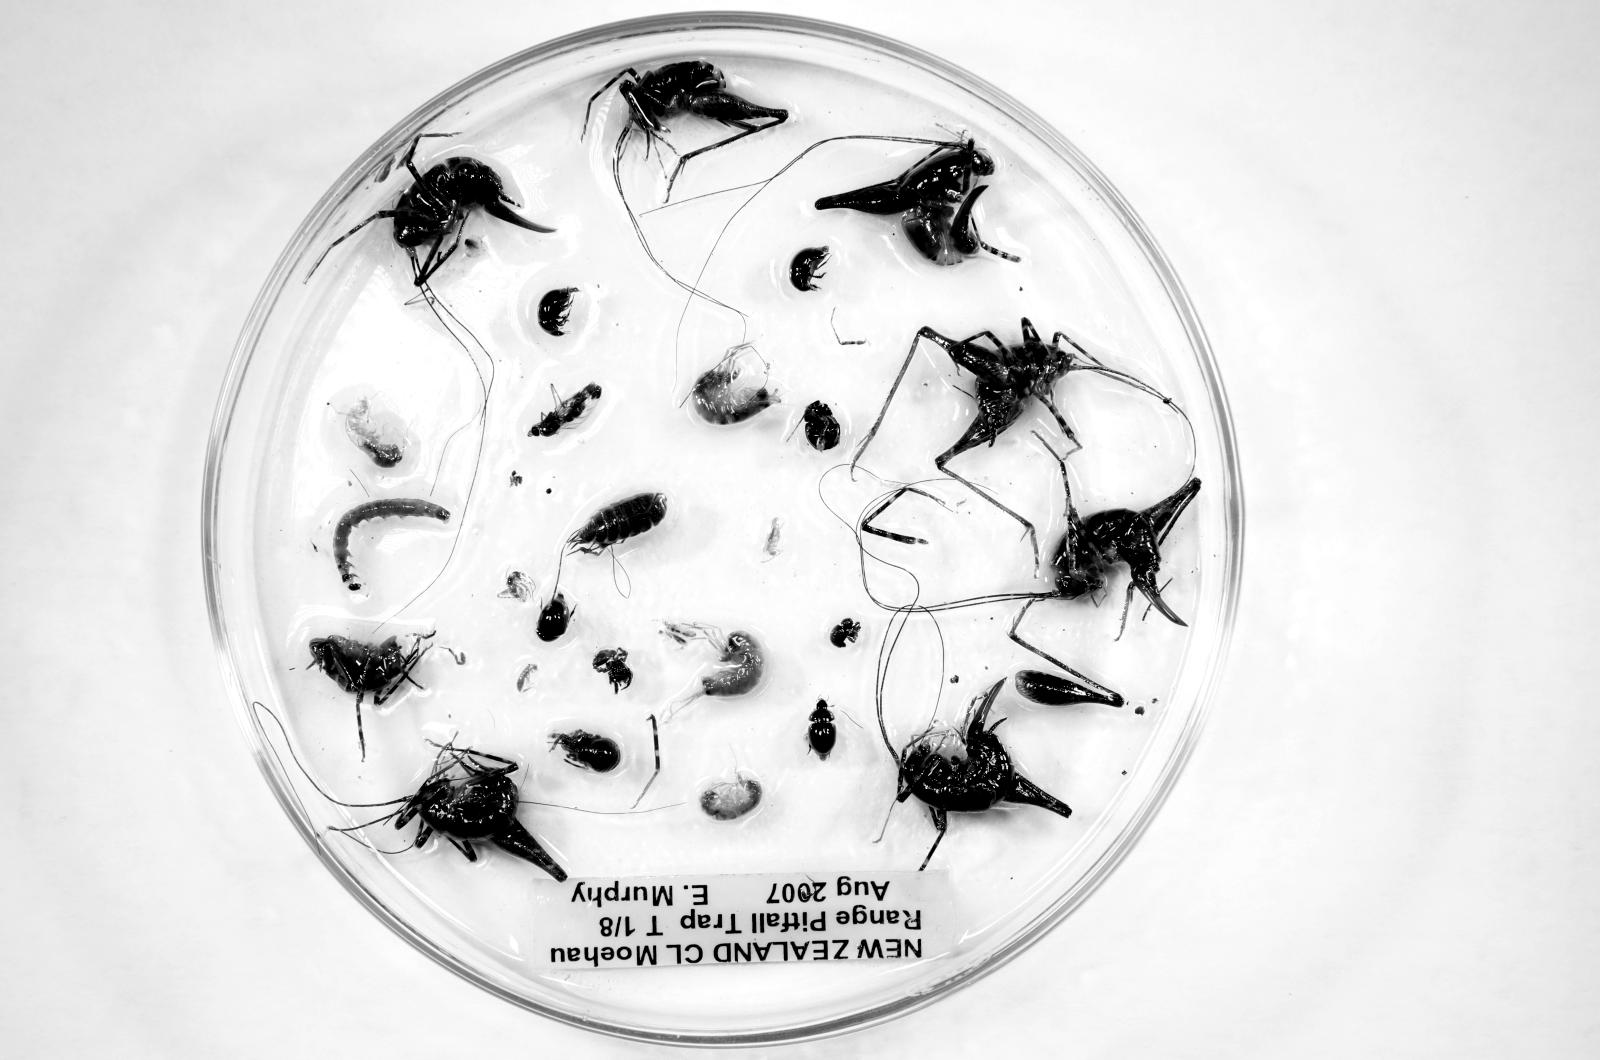amphipoda: (692, 342, 780, 425), (691, 625, 765, 697), (345, 397, 403, 467), (699, 773, 763, 821)
coleoptera: (537, 287, 579, 336), (536, 590, 575, 642), (802, 401, 841, 451), (807, 698, 837, 760), (790, 246, 830, 291), (829, 618, 862, 648)
coleoptera_larva: (333, 498, 451, 590)
collembola: (763, 517, 782, 557), (516, 664, 538, 692)
diptera: (527, 383, 601, 437)
isopoda: (568, 493, 667, 555)
opiliones: (549, 729, 621, 773)
orthoptera: (851, 318, 1186, 504), (351, 138, 556, 286), (583, 60, 789, 206), (896, 679, 1071, 841), (390, 745, 566, 881), (815, 141, 995, 265), (1052, 478, 1200, 626), (310, 634, 433, 758), (498, 570, 535, 601), (665, 621, 700, 639), (659, 628, 687, 645)
